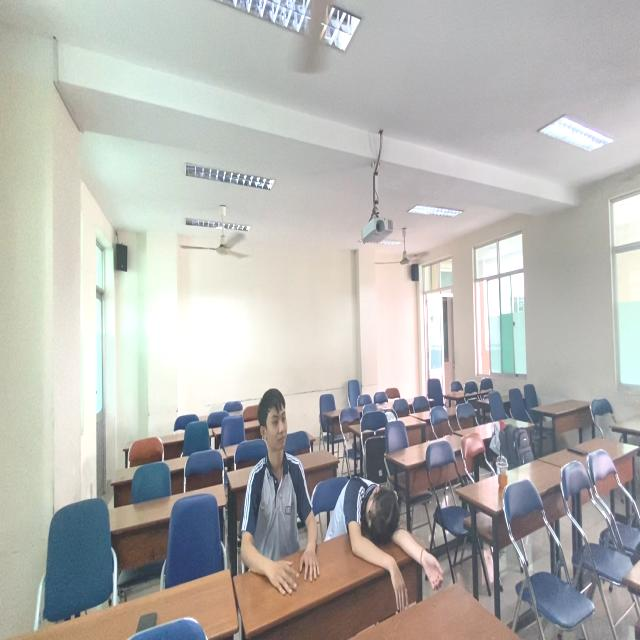sleep: (327, 471, 423, 569)
